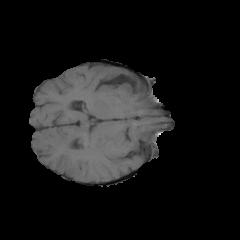glioma: (71, 126, 136, 150)
